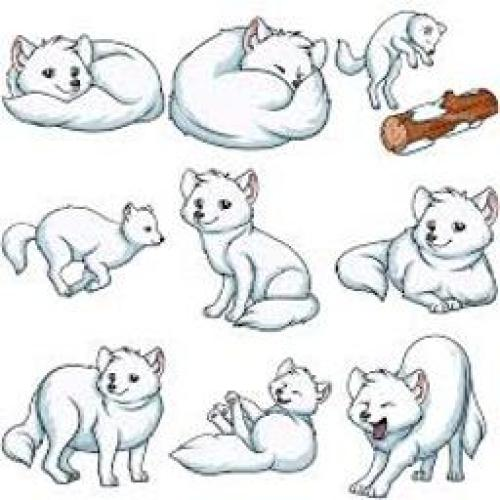arctic_fox-endangered: (180, 167, 322, 321), (345, 336, 480, 488), (167, 17, 333, 138), (13, 348, 163, 480), (343, 182, 500, 307), (181, 357, 326, 472), (0, 34, 163, 127), (1, 205, 164, 297), (340, 13, 451, 107)
